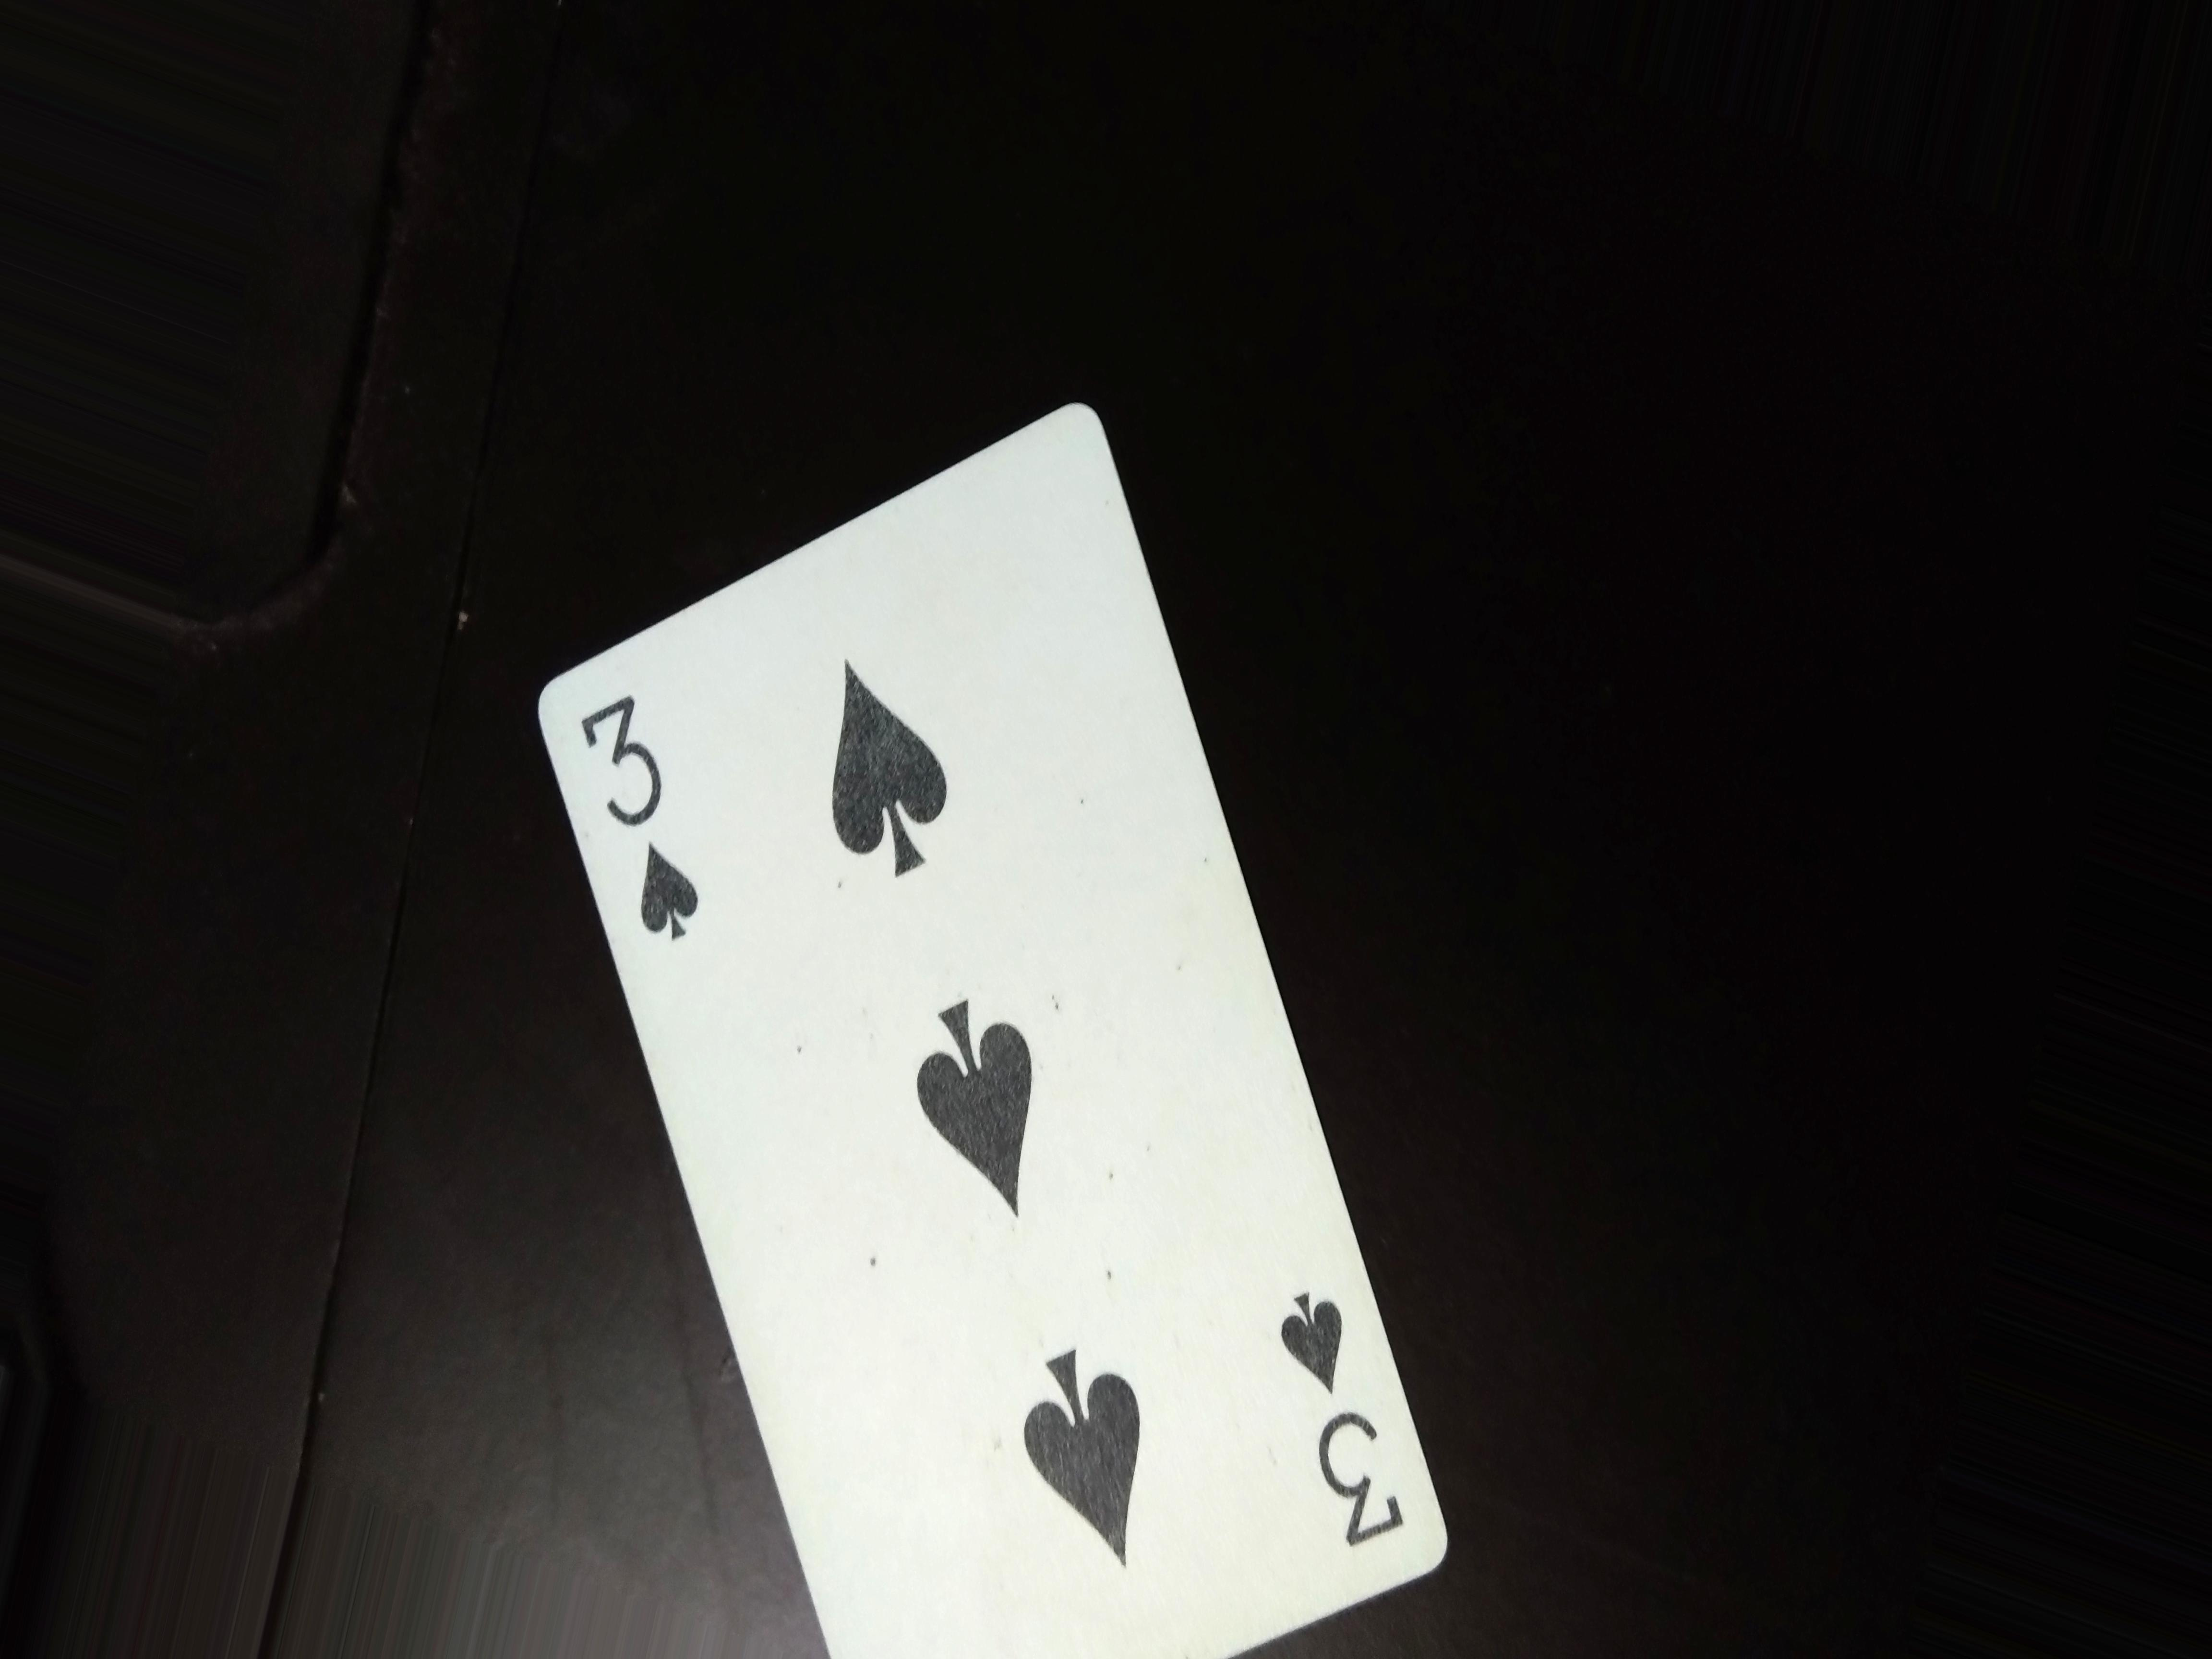3S: (568, 681, 766, 972)
